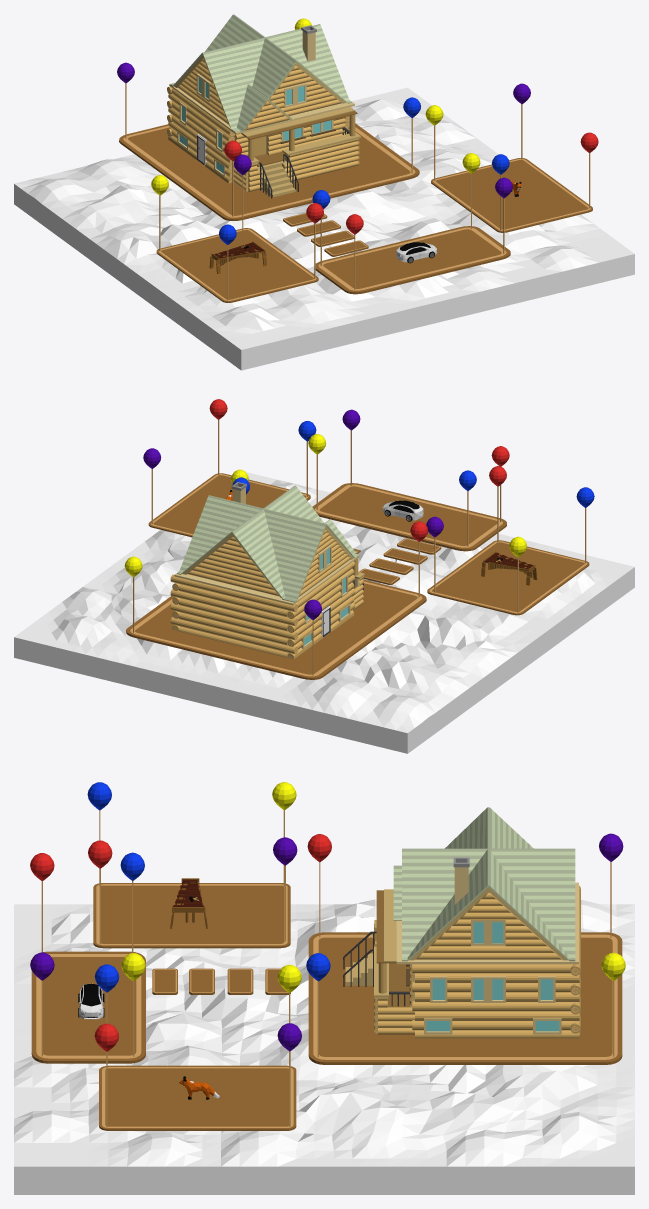
3 renders of one model, top to bottom at view 1: azimuth 30°, elevation 25°; view 2: azimuth 150°, elevation 25°; view 3: azimuth 270°, elevation 25°, orthographic. The views are drawn at different scales.
Visible parts, largest first — view 1: Cube.013, Cube.1516, OBJRANDOM_MARIMBA, VEHICLES_TESLA; view 2: Cube.013, Cube.1516, OBJRANDOM_MARIMBA, VEHICLES_TESLA; view 3: Cube.013, Cube.1516, OBJRANDOM_MARIMBA, VEHICLES_TESLA.
Boxes of the visible parts, x1,y1,x2,y2 form: Cube.013: [14, 18, 634, 370]; Cube.1516: [167, 14, 360, 198]; OBJRANDOM_MARIMBA: [209, 241, 266, 273]; VEHICLES_TESLA: [396, 242, 437, 263]; Cube.013: [14, 399, 634, 753]; Cube.1516: [170, 482, 364, 659]; OBJRANDOM_MARIMBA: [481, 551, 537, 585]; VEHICLES_TESLA: [382, 500, 423, 521]; Cube.013: [14, 782, 634, 1194]; Cube.1516: [343, 807, 580, 1038]; OBJRANDOM_MARIMBA: [170, 878, 207, 928]; VEHICLES_TESLA: [78, 983, 104, 1019].
Bounding box in the file's own units: 4000 × 1789 × 4000.
Materials: 36 (2 with a texture image).
